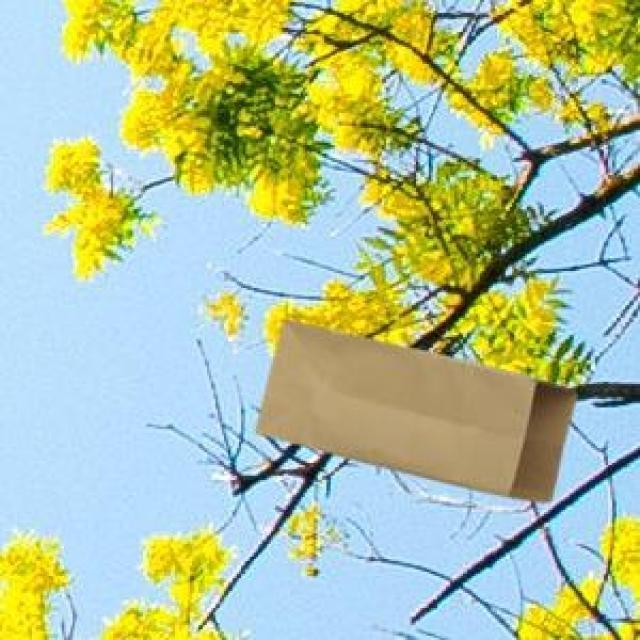paper: (252, 316, 572, 497)
